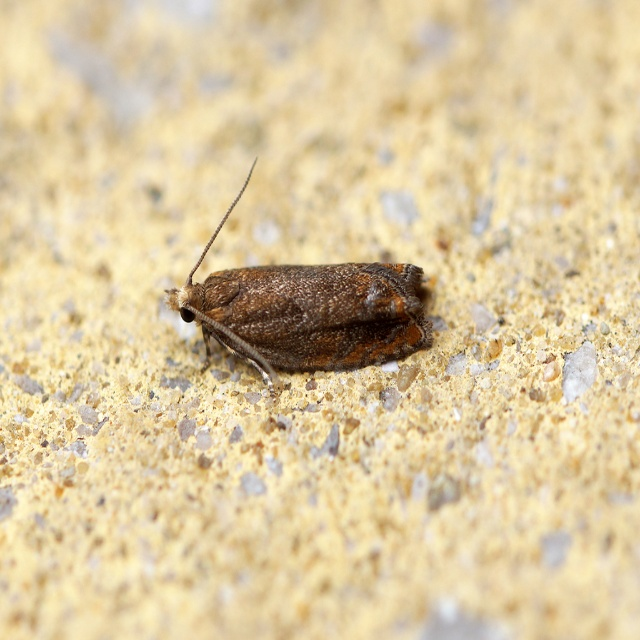Moths and butterflies: (163, 154, 436, 394)
